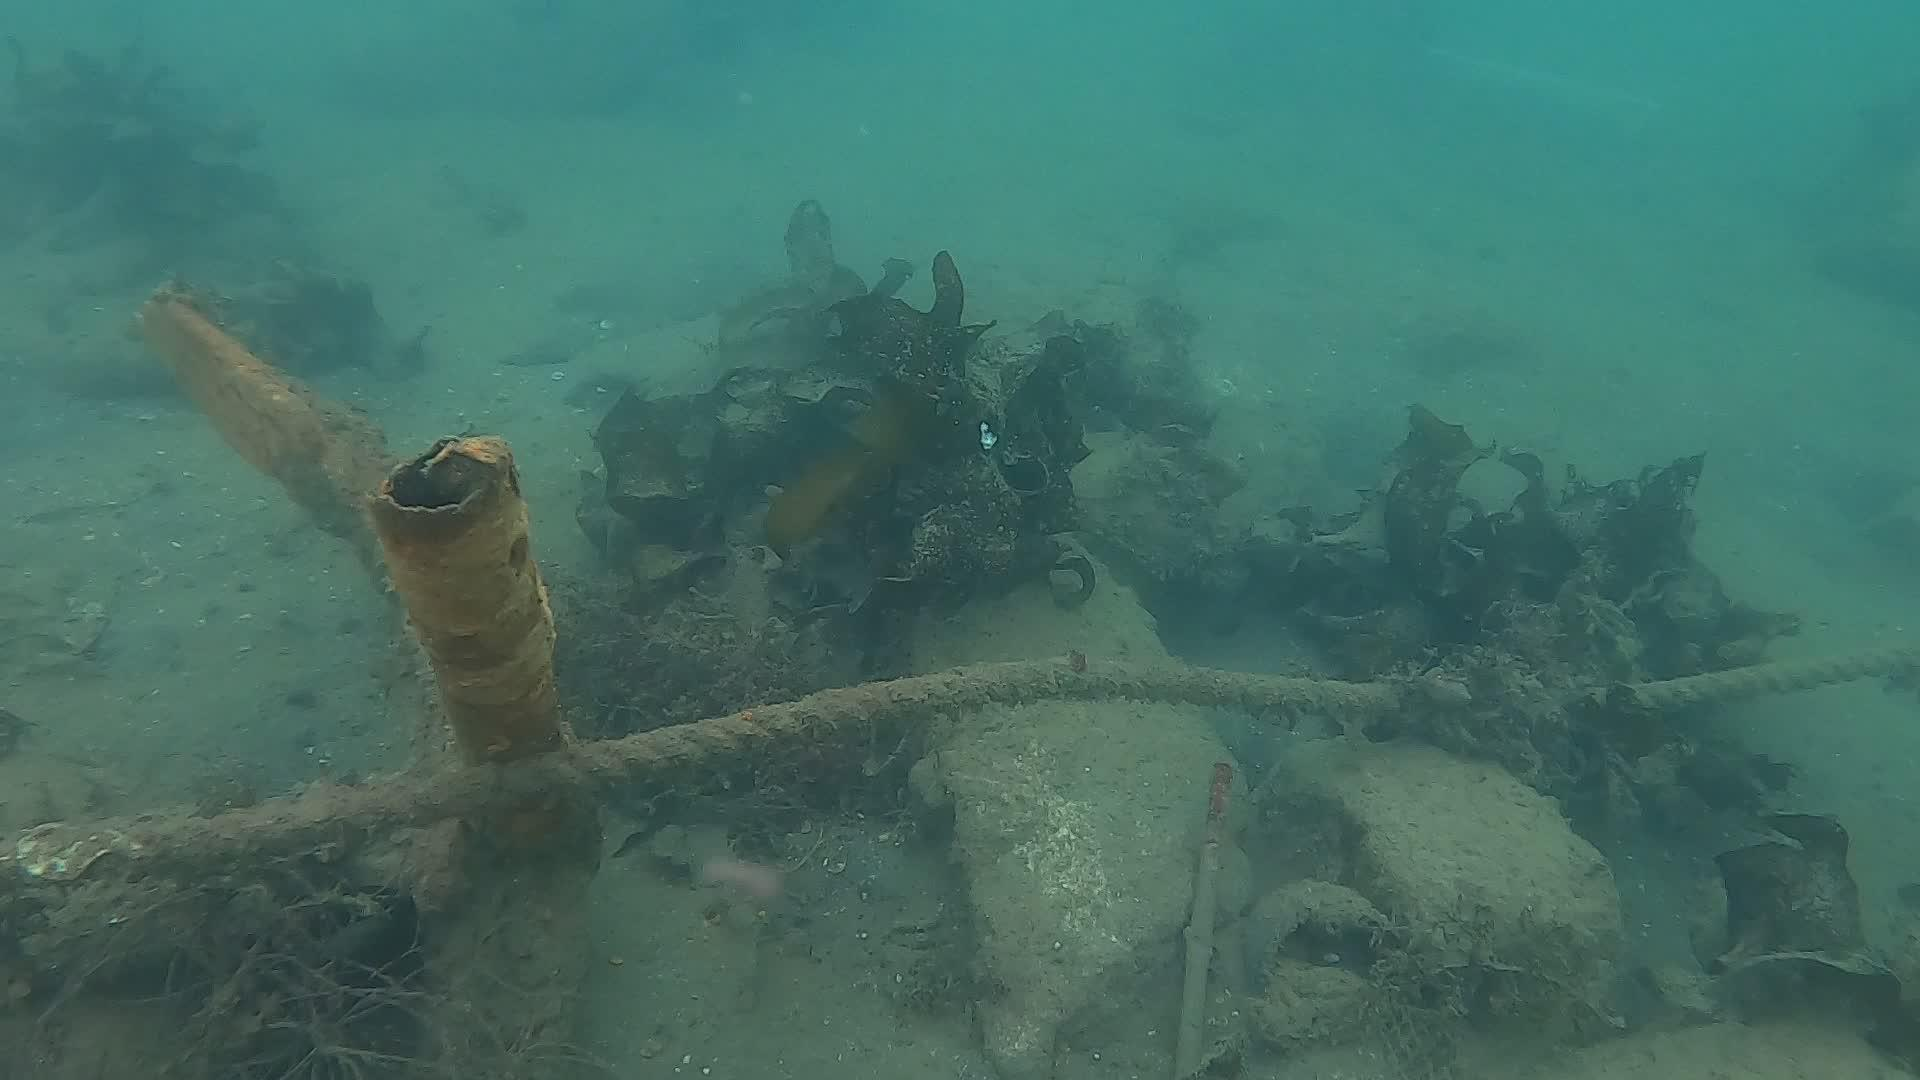rope: (1, 637, 1920, 898)
